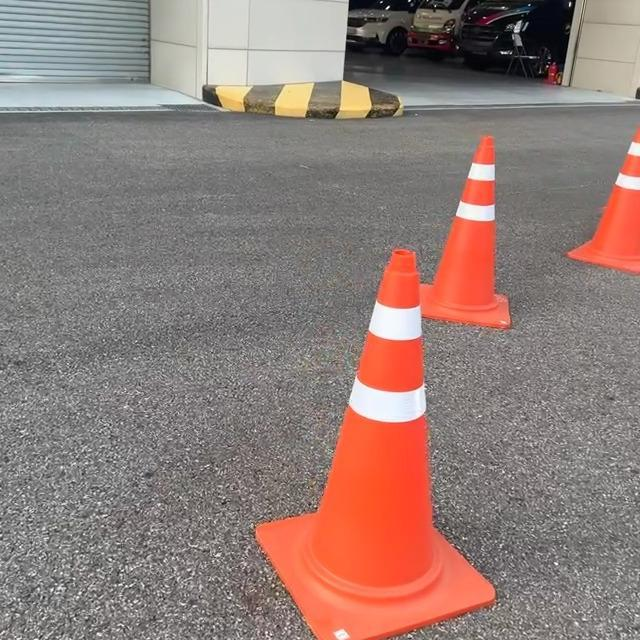fallen_object: (215, 229, 531, 640), (437, 142, 537, 338), (563, 127, 640, 232)
